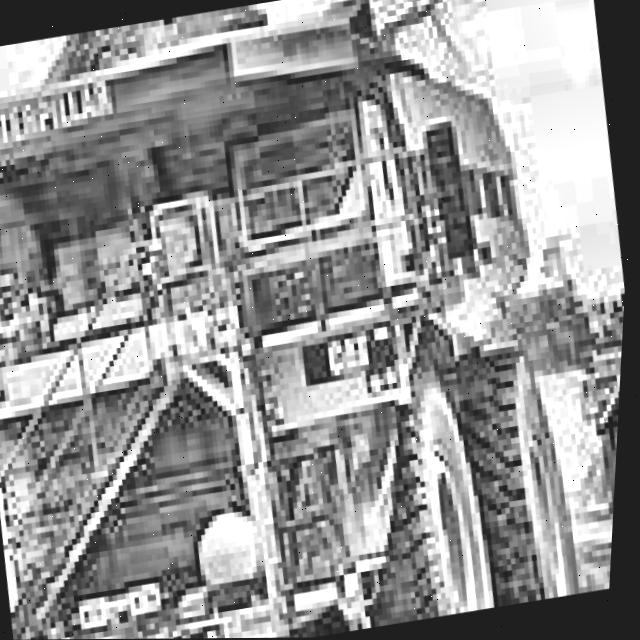dump_truck: (0, 0, 619, 640), (573, 322, 627, 523)
